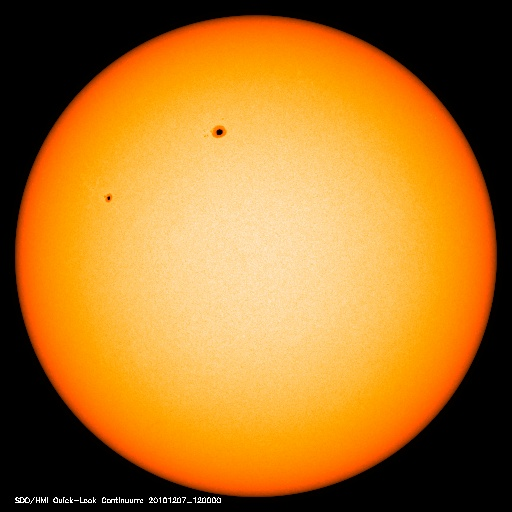sunspot: (196, 119, 234, 145), (93, 186, 122, 209)
